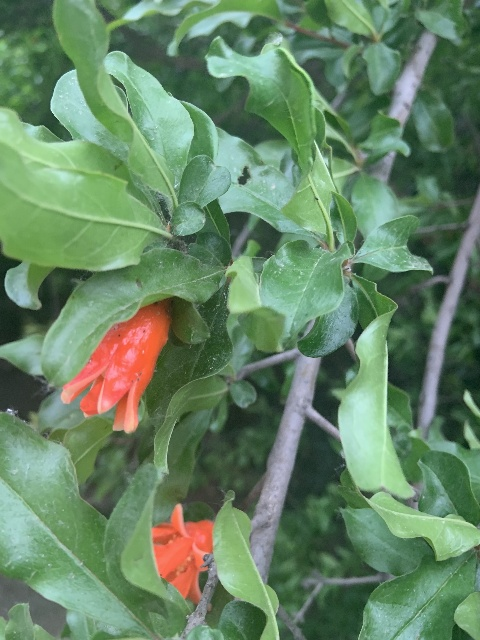flower: (61, 299, 171, 433), (151, 503, 214, 611)
